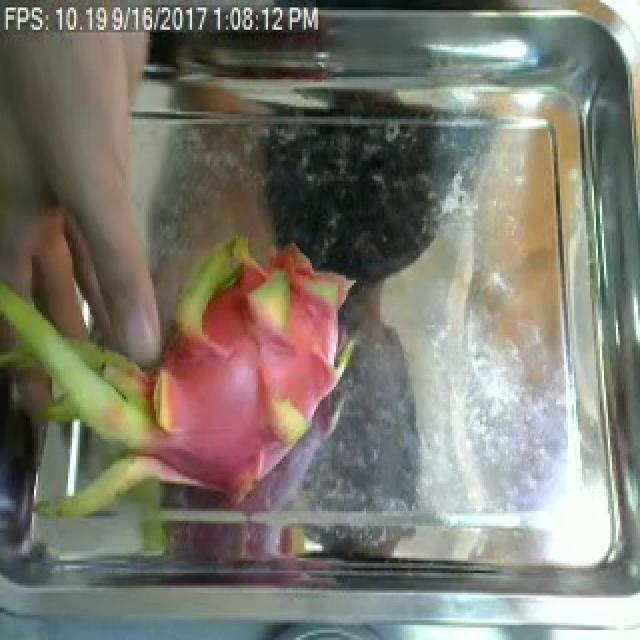fruit: (0, 164, 386, 576)
